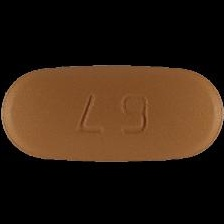65862-572: (0, 0, 224, 224)
